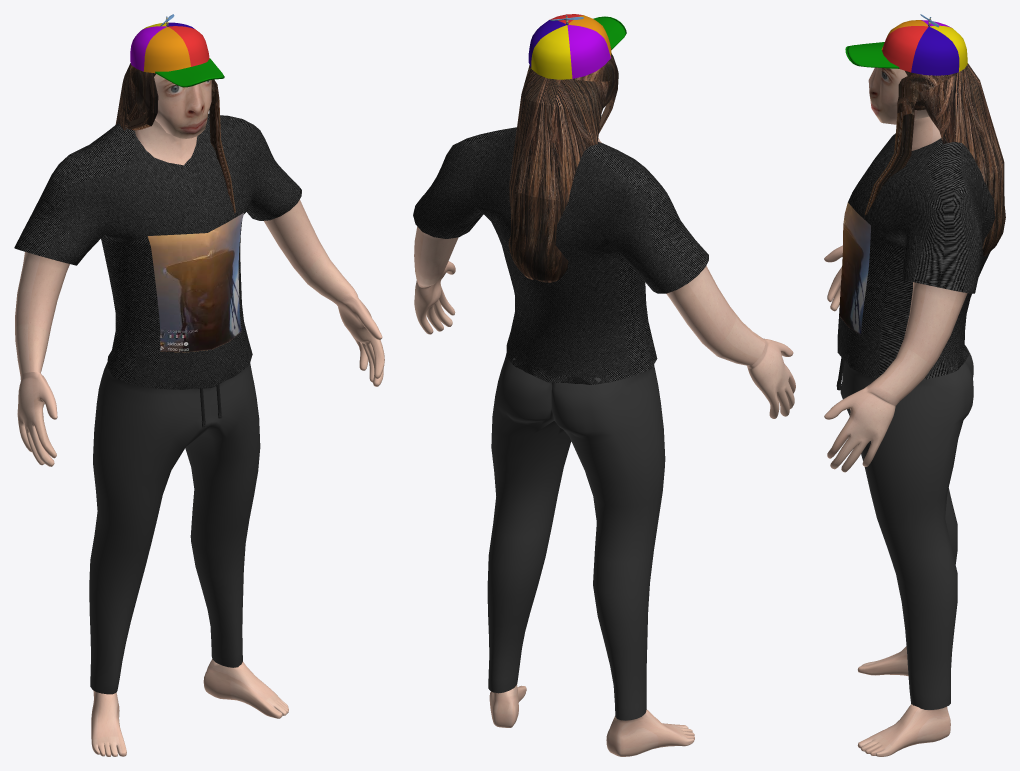
Rendered from lillgrenen.fbx.
The picture shows the model from 3 angles, left to right: view 1: azimuth 30°, elevation 25°; view 2: azimuth 150°, elevation 25°; view 3: azimuth 270°, elevation 25°; orthographic projection. The views are drawn at different scales.
Parts seen in each view (by area): view 1: Head1; view 2: Head1; view 3: Head1.
Part boxes in pixels (<box>): Head1: <box>14,14,384,756</box>; Head1: <box>413,14,795,756</box>; Head1: <box>824,14,1005,756</box>.
Bounding box in the file's own units: 5.99 × 11.46 × 2.72.
16 materials, 5 textured.
